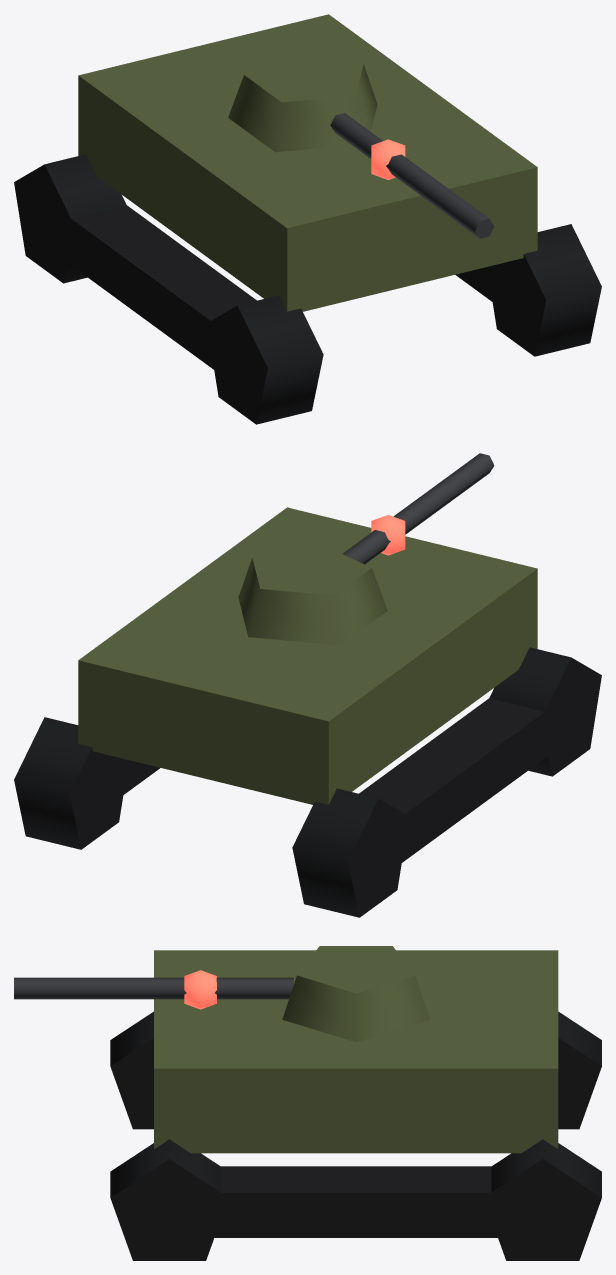
The model's file is unit_mil_ground_drone_a07_lod1.glb.
3 views of the same model, one above another, from view 1: azimuth 30°, elevation 25°; view 2: azimuth 150°, elevation 25°; view 3: azimuth 270°, elevation 25° (orthographic). The views are drawn at different scales.
Visible parts, largest first — view 1: body, track_r, turret, track_l; view 2: body, track_r, turret, track_l; view 3: body, track_l, turret, track_r.
Part boxes in pixels (x1,y1,x2,y2): body: (78, 14, 537, 311); track_r: (14, 154, 323, 424); turret: (228, 51, 494, 238); track_l: (455, 224, 601, 356); body: (78, 507, 537, 804); track_r: (292, 647, 601, 917); turret: (238, 453, 494, 645); track_l: (14, 717, 160, 849); body: (154, 950, 558, 1153); track_l: (110, 1139, 601, 1260); turret: (14, 946, 429, 1042); track_r: (110, 1011, 601, 1129).
Size of the model in its own units: 1.2 by 0.7618 by 1.89.
